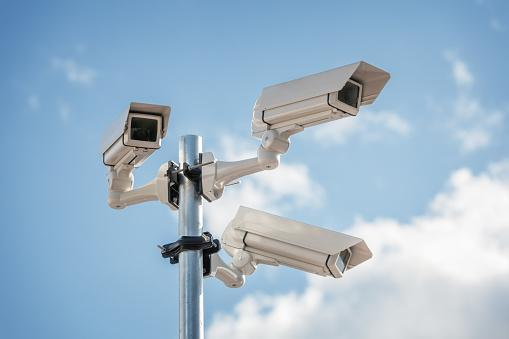------------------------------: (245, 60, 394, 141), (219, 204, 375, 280), (98, 100, 172, 169)
